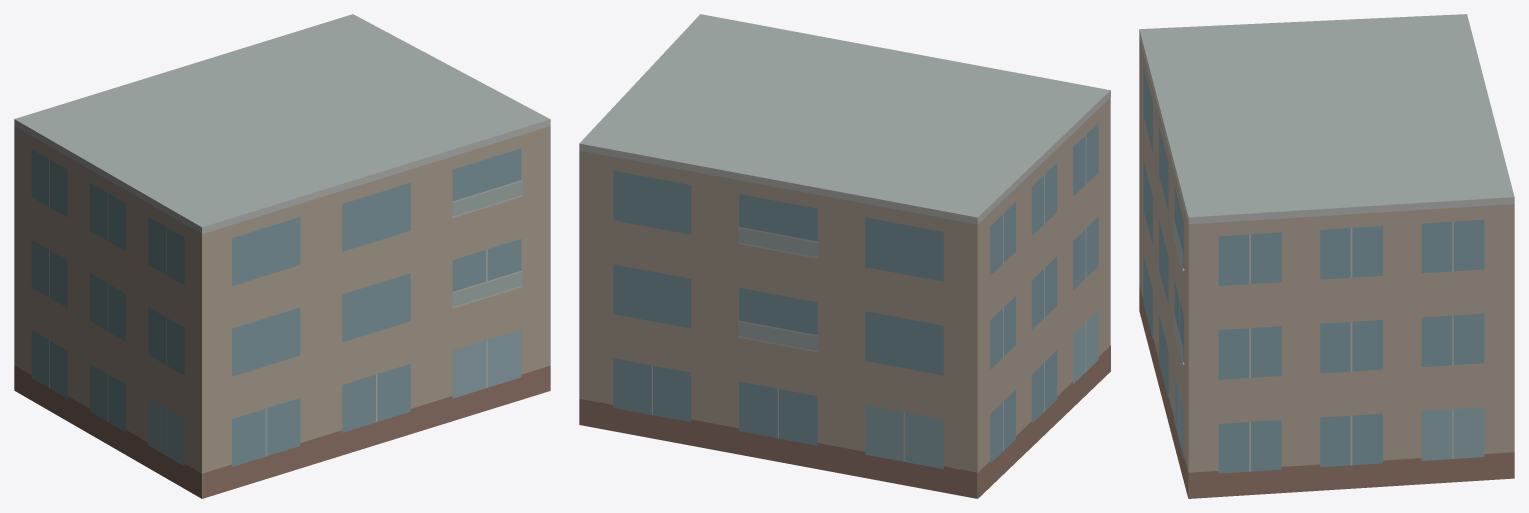
File: survey-upis-32942904.glb
The picture shows the model from 3 angles, left to right: view 1: azimuth 30°, elevation 25°; view 2: azimuth 150°, elevation 25°; view 3: azimuth 270°, elevation 25°; orthographic projection. The views are drawn at different scales.
Visible parts, largest first — view 1: survey-upis-32942904.tmp; view 2: survey-upis-32942904.tmp; view 3: survey-upis-32942904.tmp.
Part boxes in pixels (left/top/right/bottom): survey-upis-32942904.tmp: left=14, top=14, right=550, bottom=498; survey-upis-32942904.tmp: left=579, top=14, right=1110, bottom=498; survey-upis-32942904.tmp: left=1139, top=14, right=1514, bottom=498.
Size of the model in its own units: 15.2 by 9.8 by 11.85.
